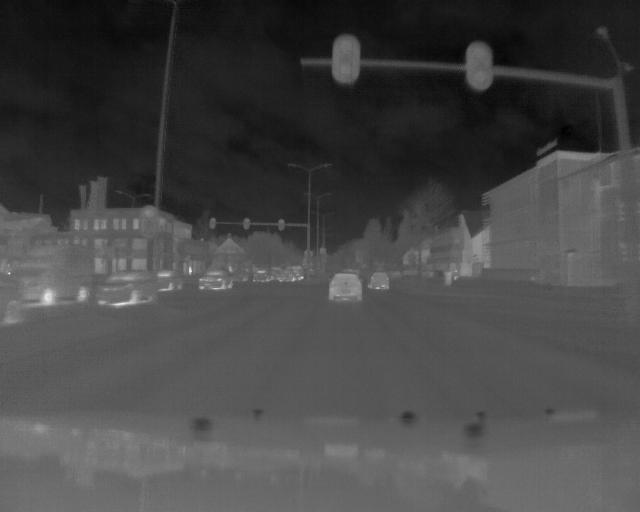car: (11, 262, 89, 306), (99, 268, 157, 306), (326, 271, 363, 301), (196, 266, 234, 291), (158, 267, 187, 291), (369, 270, 391, 292), (253, 265, 272, 286), (278, 268, 299, 285)
